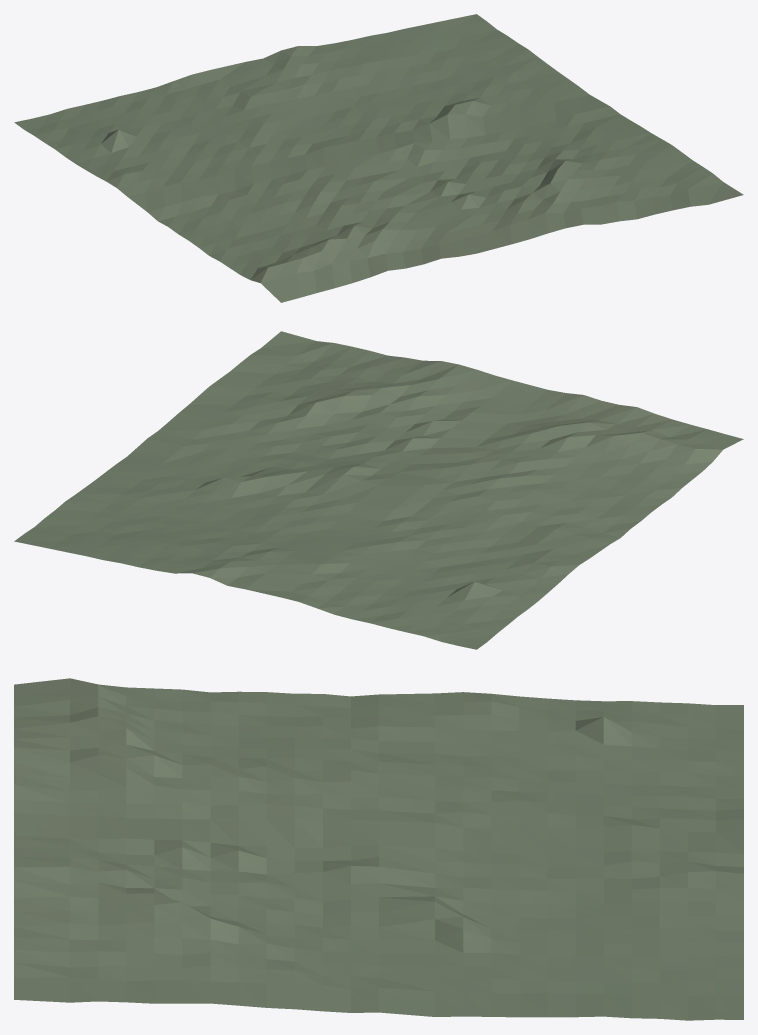
File: tile_3_0.glb
3 renders of one model, top to bottom at view 1: azimuth 30°, elevation 25°; view 2: azimuth 150°, elevation 25°; view 3: azimuth 270°, elevation 25°, orthographic. The views are drawn at different scales.
Parts seen in each view (by area): view 1: geometry_0; view 2: geometry_0; view 3: geometry_0.
Part boxes in pixels (x1,y1,x2,y2): geometry_0: [14, 14, 743, 302]; geometry_0: [14, 331, 743, 649]; geometry_0: [14, 678, 743, 1020].
Bounding box in the file's own units: 127 × 8.37 × 127.
